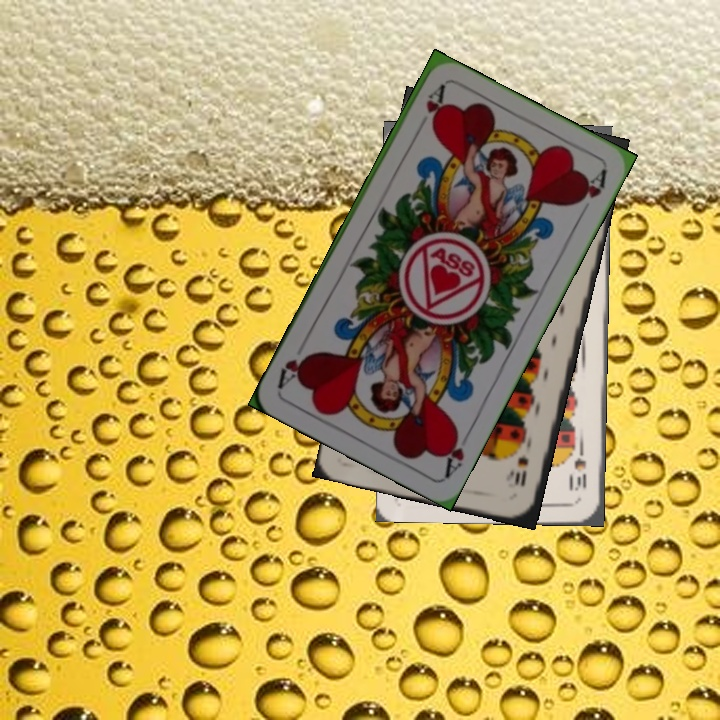HA: (439, 424, 475, 479), (412, 81, 448, 136)
S10: (569, 440, 589, 494), (510, 450, 531, 489)
